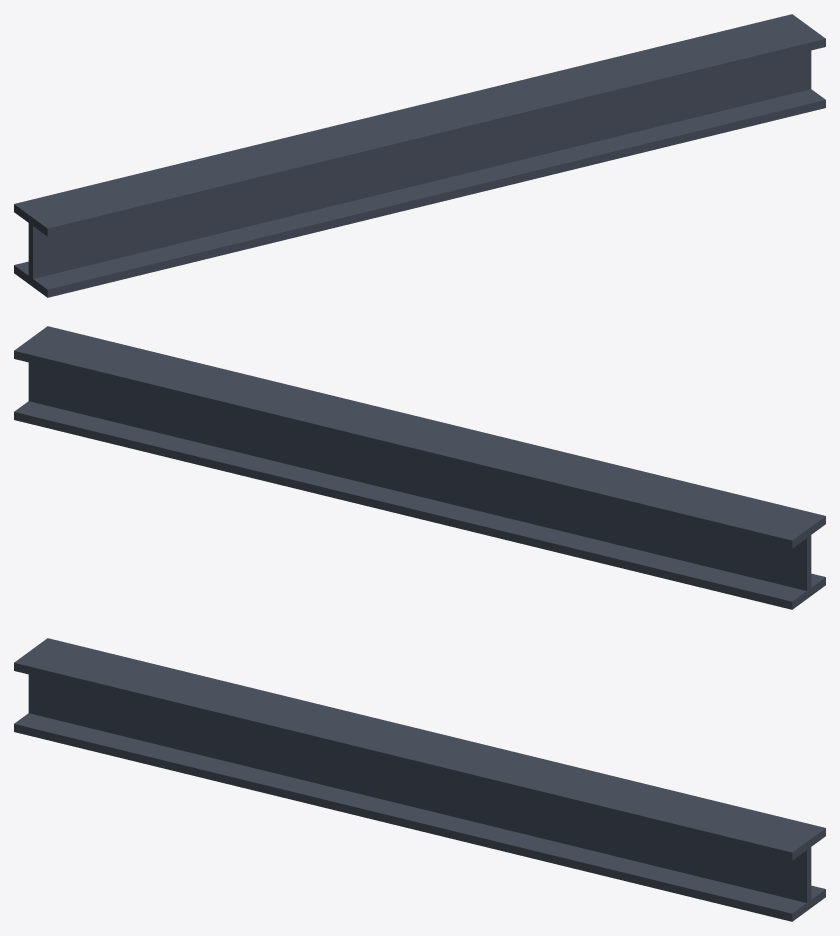
Rendered from steel_i_beam_2m.glb.
3 renders of one model, top to bottom at view 1: azimuth 30°, elevation 25°; view 2: azimuth 150°, elevation 25°; view 3: azimuth 330°, elevation 25°, orthographic.
Parts seen in each view (by area): view 1: steel_i_beam_2m; view 2: steel_i_beam_2m; view 3: steel_i_beam_2m.
Part boxes in pixels (box(x1,y1,x2,y2)): steel_i_beam_2m: box(14, 14, 825, 297); steel_i_beam_2m: box(14, 326, 825, 609); steel_i_beam_2m: box(14, 638, 825, 921).
Bounding box in the file's own units: 2 × 0.17 × 0.15.
